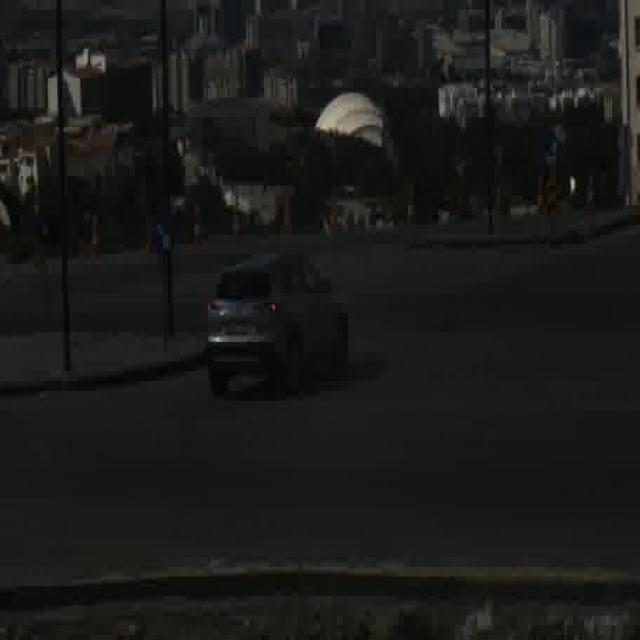Car: (206, 246, 350, 399)
